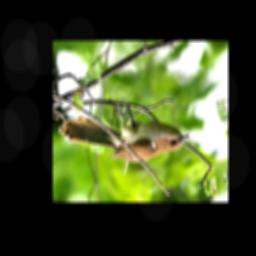Cuckoo: (58, 99, 190, 162)
